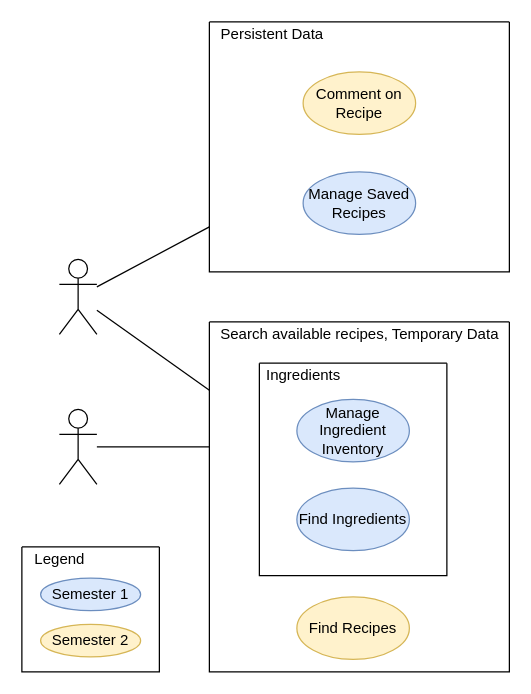
The diagram is 531 pixels wide and 694 high, and some of its shapes have lost their labels. The shapes that lost their labels are listed below. From the top down, each one's centre as x and y in pixels, then its label:
At point 77,296: "Logged In User".
At point 77,446: "Guest".
